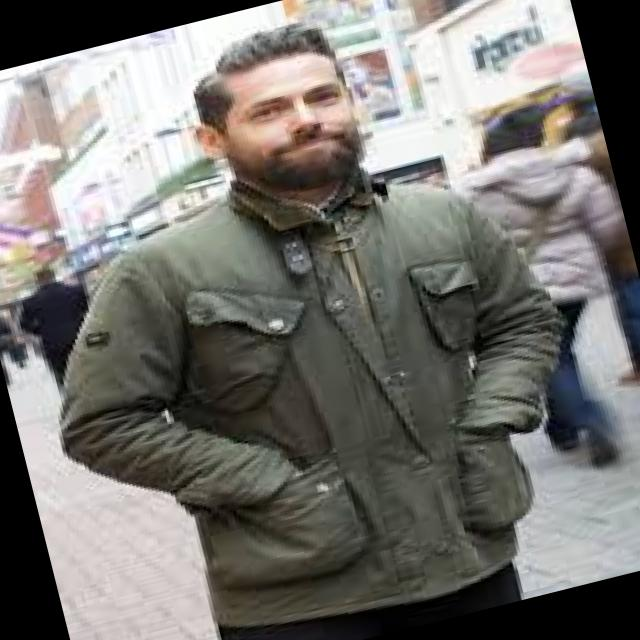Jacket: (3, 139, 614, 640)
